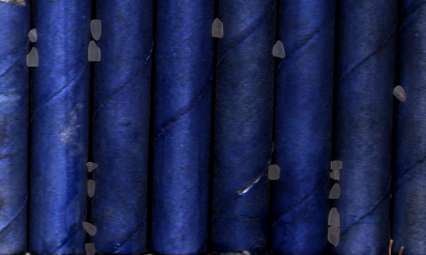broken_grain: (208, 15, 227, 43), (324, 225, 345, 250), (392, 81, 412, 107), (24, 46, 42, 72), (85, 40, 104, 63), (88, 18, 106, 42), (326, 205, 344, 227), (326, 182, 344, 203), (267, 162, 284, 184), (81, 219, 100, 238), (271, 40, 287, 62), (86, 178, 98, 204), (27, 27, 41, 45), (83, 160, 100, 174), (327, 169, 344, 182), (328, 158, 344, 171)
